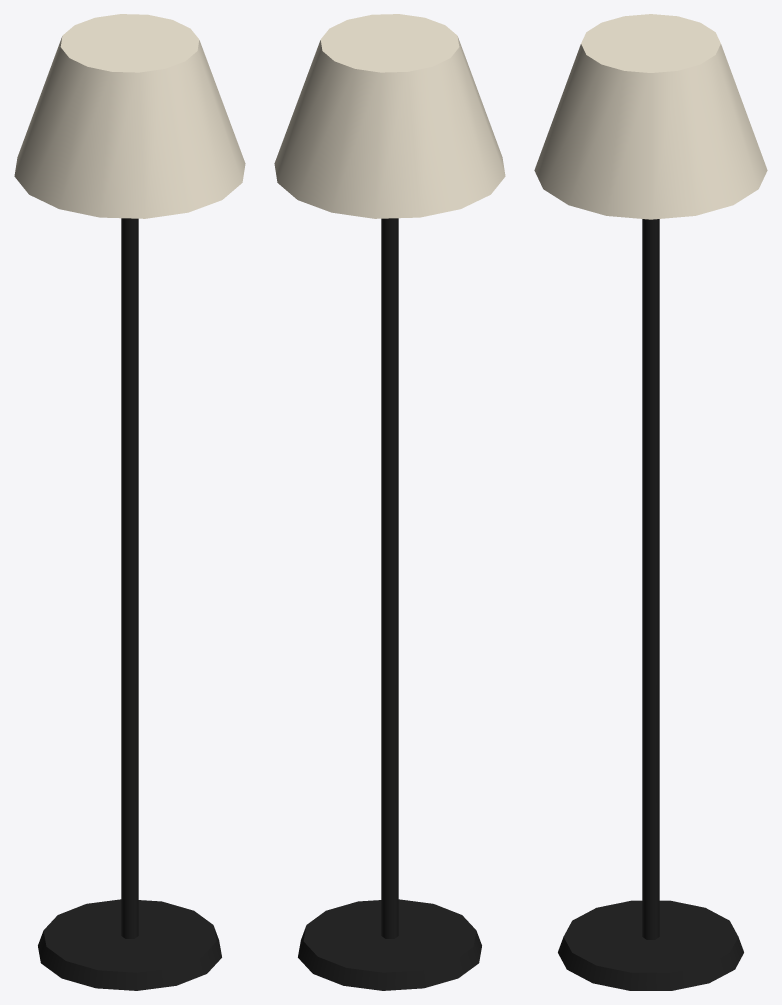
Rendered from floor-lamp.obj.
The picture shows the model from 3 angles, left to right: view 1: azimuth 30°, elevation 25°; view 2: azimuth 150°, elevation 25°; view 3: azimuth 270°, elevation 25°; orthographic projection.
Parts seen in each view (by area): view 1: floor-lamp_2, floor-lamp_1, floor-lamp_0; view 2: floor-lamp_2, floor-lamp_1, floor-lamp_0; view 3: floor-lamp_2, floor-lamp_1, floor-lamp_0.
Boxes of the visible parts, x1,y1,x2,y2 form: floor-lamp_2: (14,14,245,218); floor-lamp_1: (121,218,138,938); floor-lamp_0: (38,899,221,990); floor-lamp_2: (274,14,505,218); floor-lamp_1: (381,218,398,938); floor-lamp_0: (298,899,481,990); floor-lamp_2: (534,14,767,219); floor-lamp_1: (642,219,659,939); floor-lamp_0: (558,900,743,990).
Size of the model in its own units: 0.4 by 1.72 by 0.4.
